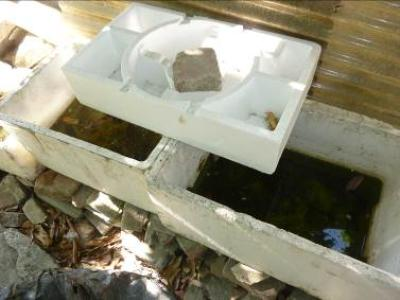styrofoam: (146, 98, 400, 299), (62, 2, 323, 177), (1, 35, 169, 217)
